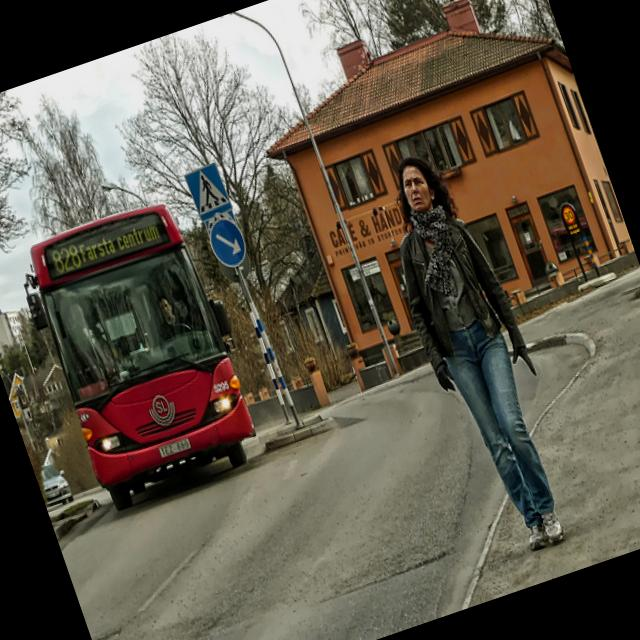Vehicle: (8, 190, 278, 518), (35, 458, 75, 508)
